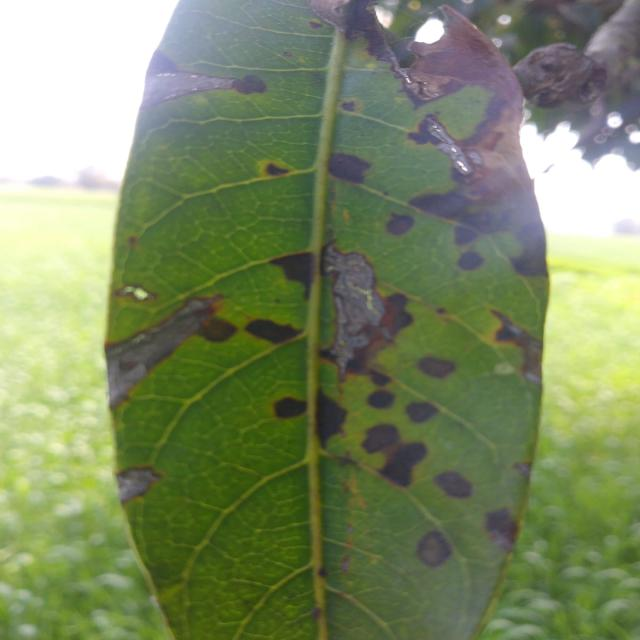Anthracnose: (79, 267, 230, 410), (321, 241, 392, 380), (481, 299, 561, 389), (406, 112, 482, 188), (141, 68, 267, 107), (270, 238, 332, 300), (378, 432, 430, 490), (480, 504, 526, 556), (244, 311, 302, 351), (112, 461, 165, 504), (409, 188, 471, 224), (374, 289, 420, 337), (410, 526, 456, 572), (511, 220, 548, 277), (433, 463, 476, 507), (357, 419, 403, 457), (317, 391, 347, 447), (326, 150, 372, 186), (197, 311, 239, 350), (404, 394, 440, 427), (417, 355, 456, 379), (385, 211, 415, 238), (231, 74, 266, 96), (147, 50, 177, 74), (274, 397, 306, 418), (115, 286, 156, 301), (367, 368, 391, 390), (260, 164, 290, 181), (367, 390, 395, 408), (458, 252, 484, 270), (455, 226, 478, 245), (266, 163, 291, 178), (513, 462, 531, 479), (307, 18, 325, 32), (125, 233, 140, 249), (340, 98, 357, 112), (309, 605, 324, 620), (341, 554, 350, 573), (318, 567, 327, 577), (283, 52, 293, 57)
Bacterial Cancer: (379, 29, 466, 98), (458, 146, 536, 197)
